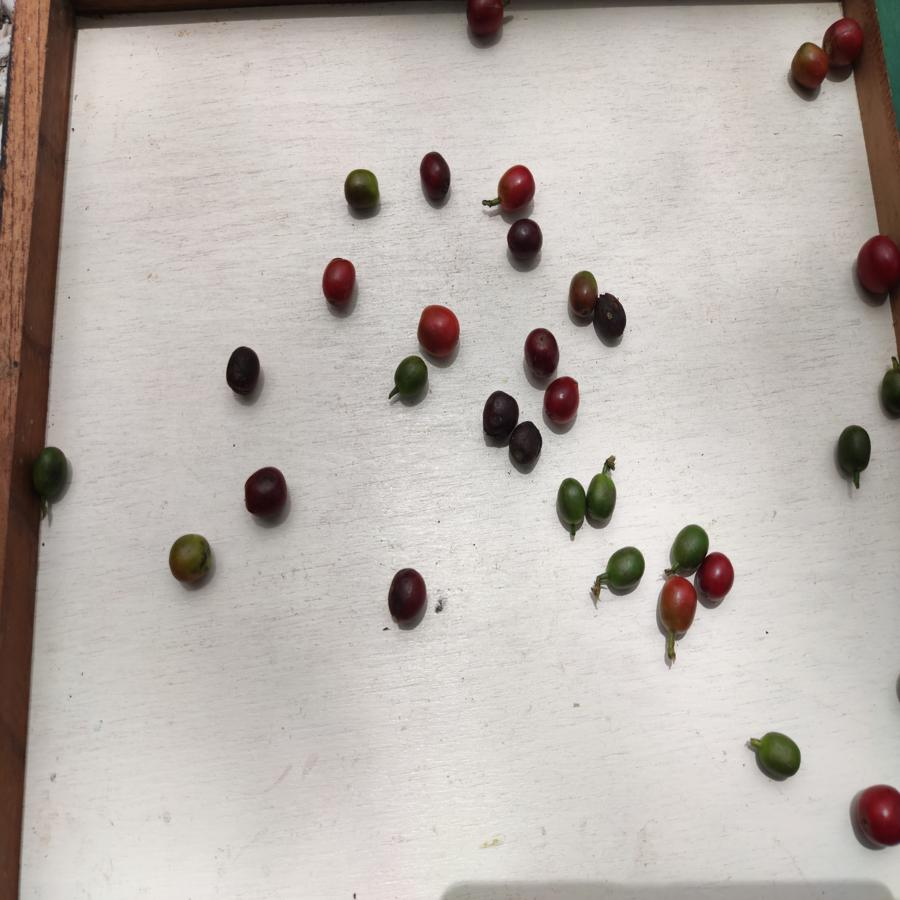Inmaduro: (756, 731, 801, 780), (600, 546, 646, 593), (836, 423, 875, 477), (33, 445, 67, 501), (393, 354, 429, 399), (555, 478, 586, 528), (587, 473, 617, 520), (671, 524, 705, 565), (882, 366, 900, 417)
Maduro: (852, 234, 900, 300), (855, 781, 900, 851), (822, 15, 864, 72), (416, 302, 460, 356), (698, 553, 737, 606), (321, 258, 363, 307), (495, 165, 537, 211)
Pinton: (167, 532, 212, 587), (659, 576, 697, 638), (343, 167, 381, 213), (792, 41, 826, 92), (569, 270, 596, 320)
Sobremaduro: (242, 467, 290, 520), (385, 568, 428, 622), (415, 148, 454, 206), (480, 390, 519, 443), (224, 344, 262, 396), (523, 329, 562, 377), (543, 374, 580, 422), (592, 294, 627, 341), (510, 419, 545, 466), (507, 220, 544, 264), (466, 1, 503, 42)
